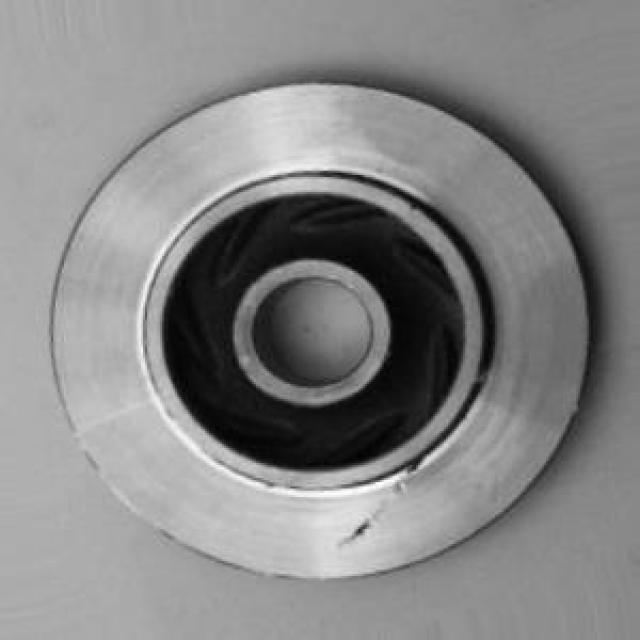Defect: (340, 514, 382, 551)
